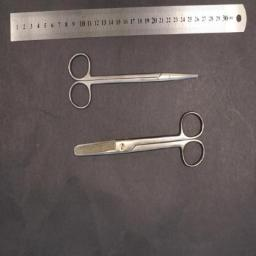Dressing Scissors: (73, 110, 205, 168)
